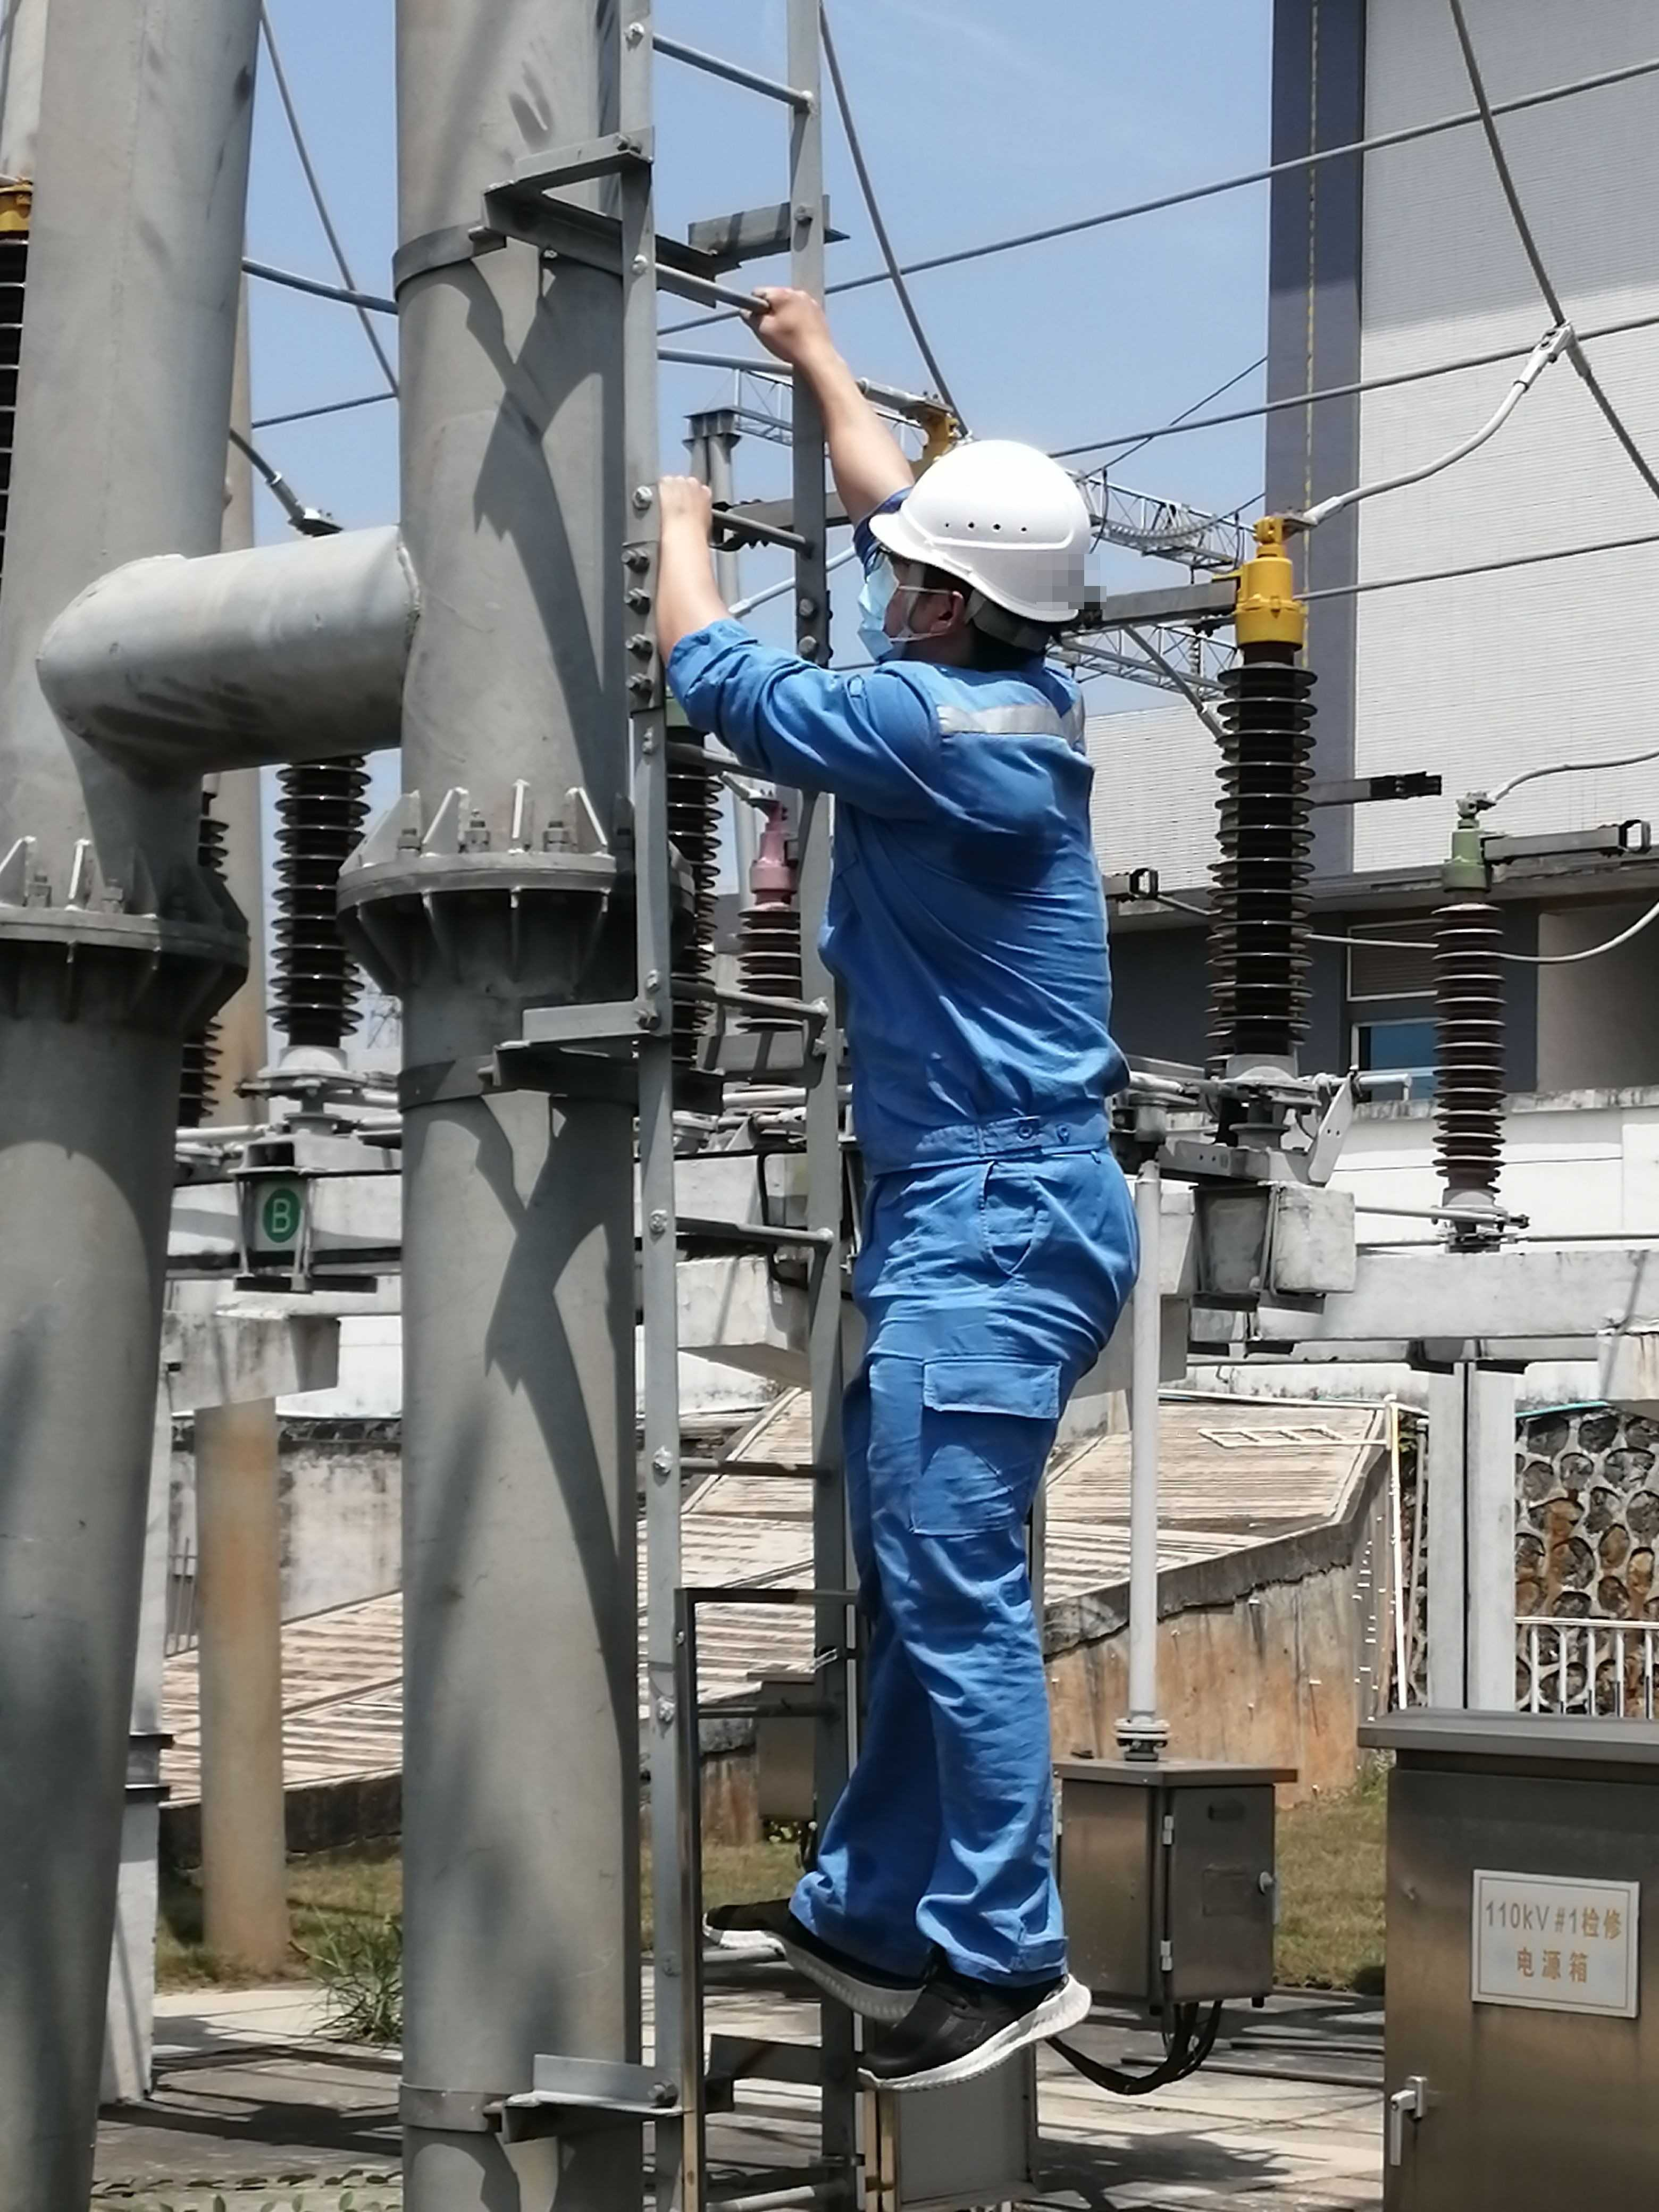downsuit: (772, 1202, 1150, 1956)
upsuit: (694, 646, 1154, 1165)
wrongtop: (767, 298, 903, 547), (657, 479, 779, 735)
